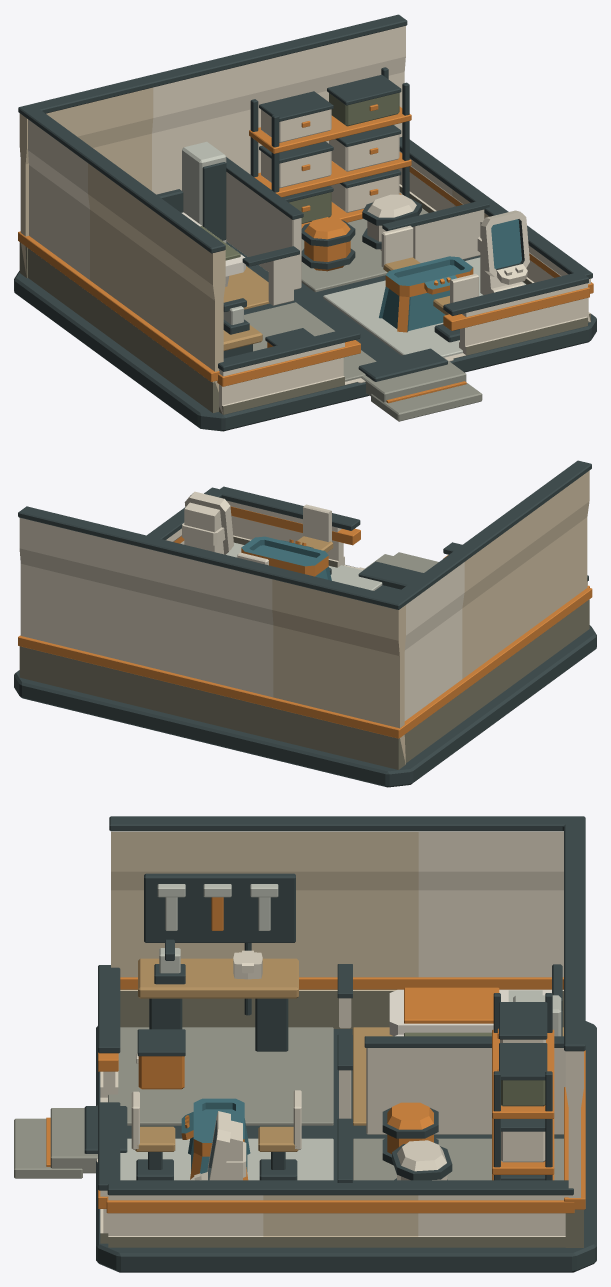
Rendered from habitat_cutaway_01.glb.
3 renders of one model, top to bottom at view 1: azimuth 30°, elevation 25°; view 2: azimuth 150°, elevation 25°; view 3: azimuth 270°, elevation 25°, orthographic. The views are drawn at different scales.
Visible parts, largest first — view 1: habitat_cutaway_01; view 2: habitat_cutaway_01; view 3: habitat_cutaway_01.
Part boxes in pixels (bbox=[...]): habitat_cutaway_01: bbox=[14, 14, 596, 431]; habitat_cutaway_01: bbox=[14, 460, 596, 787]; habitat_cutaway_01: bbox=[14, 816, 596, 1272].
Bounding box in the file's own units: 6.9 × 3.01 × 7.1.
